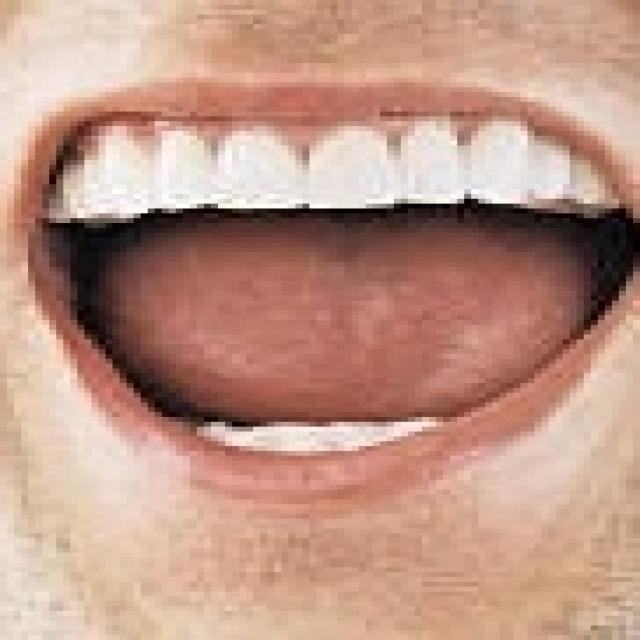open-mouth: (14, 72, 633, 494)
